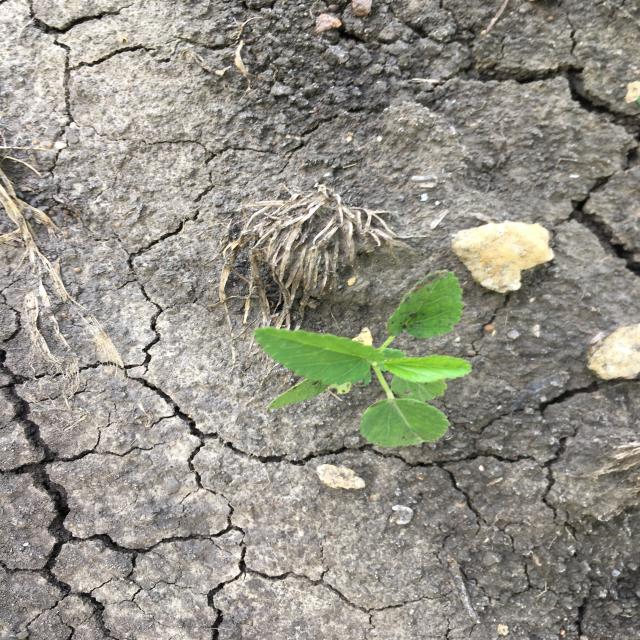PricklySida: (250, 267, 477, 452)
